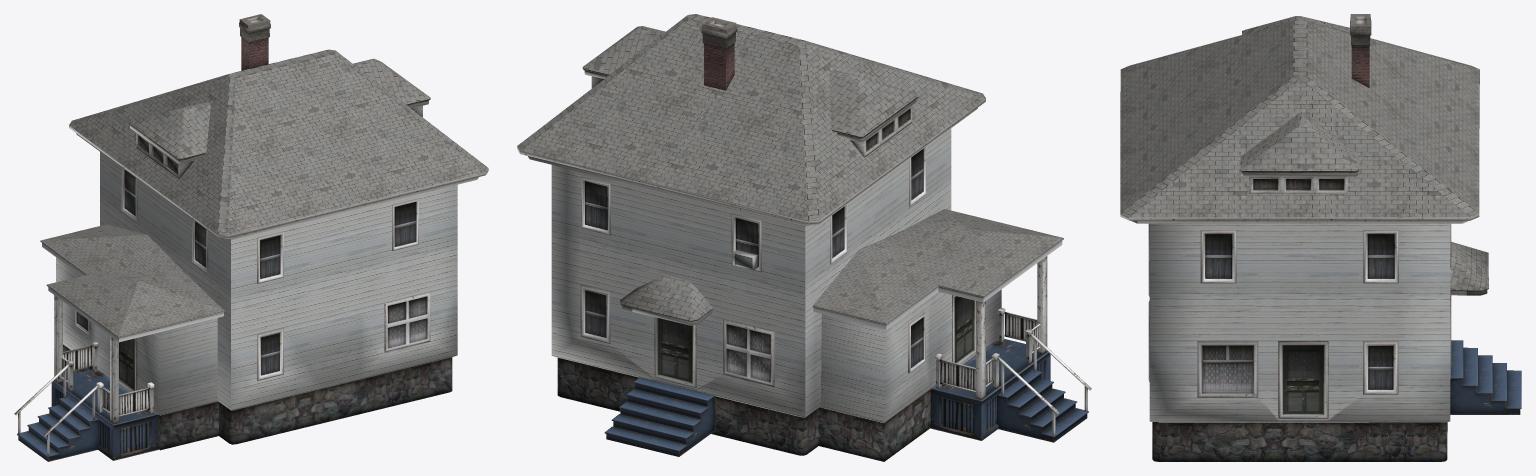
Rendered from farmhouse.glb.
3 renders of one model, left to right at view 1: azimuth 30°, elevation 25°; view 2: azimuth 150°, elevation 25°; view 3: azimuth 270°, elevation 25°, orthographic. The views are drawn at different scales.
Parts seen in each view (by area): view 1: house; view 2: house; view 3: house.
Boxes of the visible parts, box(x1,y1,x2,y2) form: house: box(14, 14, 488, 461); house: box(517, 14, 1091, 461); house: box(1120, 14, 1521, 461).
Size of the model in its own units: 124 by 97.6 by 93.14.
Materials: 3 (3 with a texture image).
